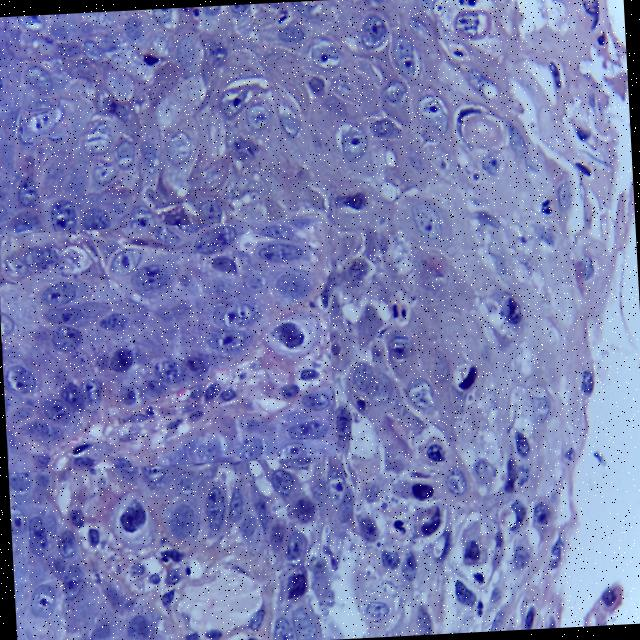Multiple Nucleol: (21, 106, 69, 137), (359, 599, 395, 619)
Nuclear Hyperchromatism: (0, 222, 325, 472)
